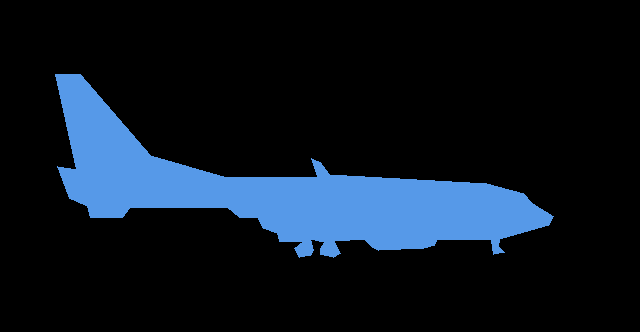Airplane: (55, 74, 554, 258)
